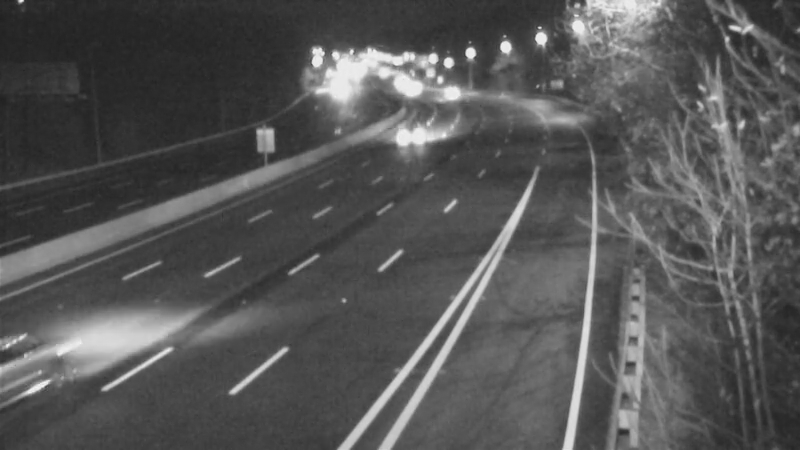vehicle: (427, 69, 477, 119), (381, 109, 431, 159)
